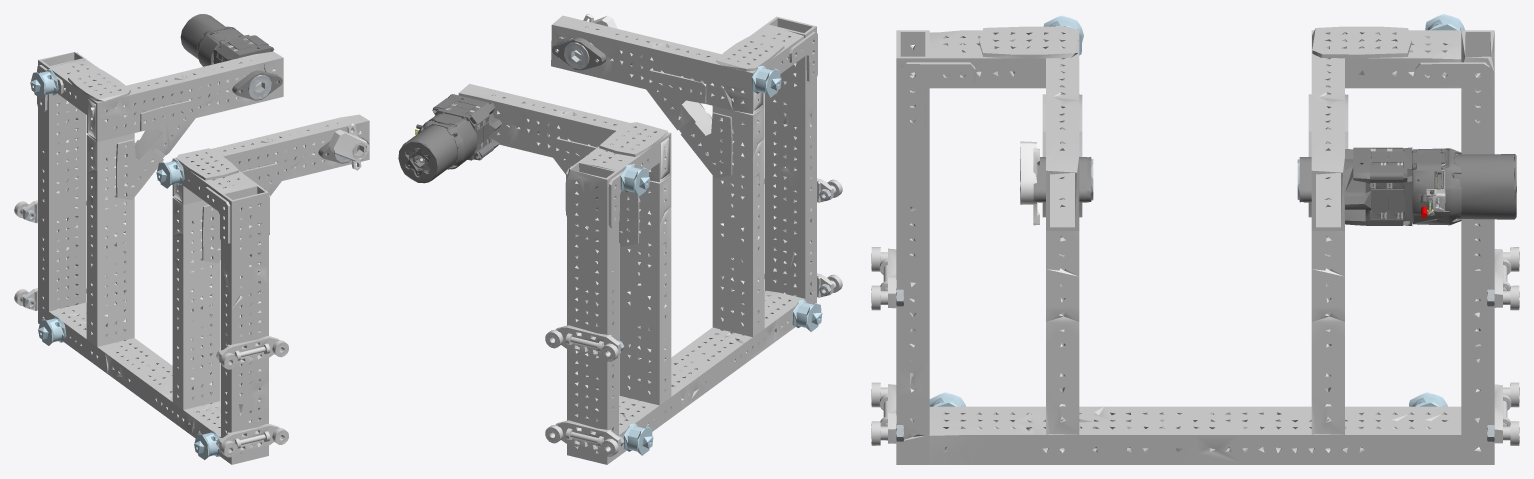
3 renders of one model, left to right at view 1: azimuth 30°, elevation 25°; view 2: azimuth 150°, elevation 25°; view 3: azimuth 270°, elevation 25°, orthographic. The views are drawn at different scales.
Visible parts, largest first — view 1: geometry_0, geometry_5, geometry_17, geometry_10, geometry_8, geometry_6, geometry_2, geometry_4, geometry_1; view 2: geometry_0, geometry_5, geometry_10, geometry_17, geometry_8, geometry_4, geometry_2, geometry_1; view 3: geometry_0, geometry_5, geometry_10, geometry_17, geometry_8, geometry_2, geometry_6, geometry_4.
Part boxes in pixels (x1,y1,x2,y2): geometry_0: (37, 38, 369, 464); geometry_5: (86, 133, 220, 409); geometry_17: (14, 200, 288, 457); geometry_10: (180, 14, 274, 83); geometry_8: (30, 69, 221, 459); geometry_6: (328, 123, 369, 170); geometry_2: (232, 70, 368, 163); geometry_4: (24, 75, 357, 447); geometry_1: (88, 99, 181, 200); geometry_0: (418, 15, 817, 464); geometry_5: (619, 106, 764, 405); geometry_10: (398, 94, 502, 183); geometry_17: (545, 178, 842, 456); geometry_8: (620, 65, 822, 455); geometry_4: (564, 42, 831, 446); geometry_2: (508, 37, 606, 125); geometry_1: (650, 90, 762, 178); geometry_0: (896, 26, 1494, 464); geometry_5: (1046, 198, 1439, 434); geometry_10: (1345, 147, 1516, 225); geometry_17: (871, 247, 1519, 445); geometry_8: (929, 14, 1464, 406); geometry_2: (1033, 157, 1311, 202); geometry_6: (1020, 141, 1039, 225); geometry_4: (896, 159, 1494, 441).
Size of the model in its own units: 0.2987 by 0.3511 by 0.4953.
